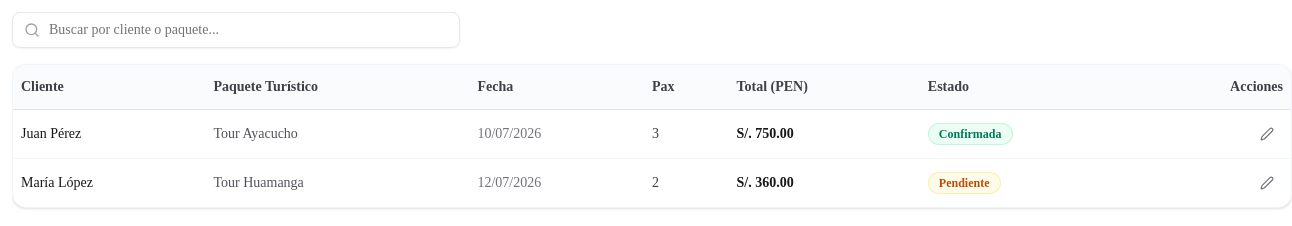
ReservationTable › filtra reservas por nombre del cliente
Step 1. Type "María" into the field with placeholder "Buscar por cliente o paquete..." → (236, 30), box x1=12 y1=12 x2=460 y2=48
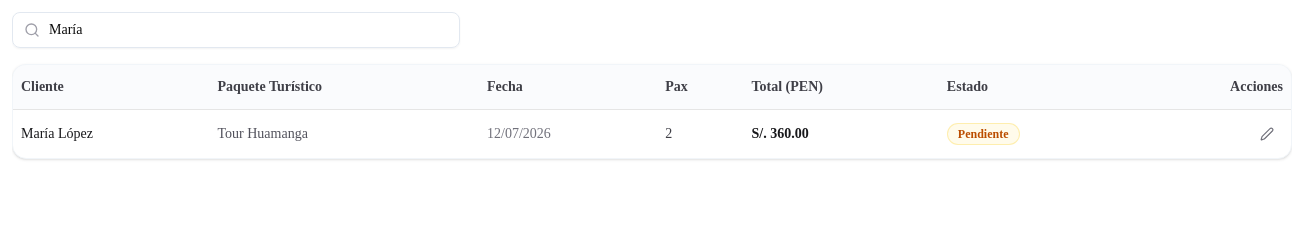
Expected: the text "María López" is shown, x1=13 y1=109 x2=210 y2=158
Expected: the text "Juan Pérez" is gone
